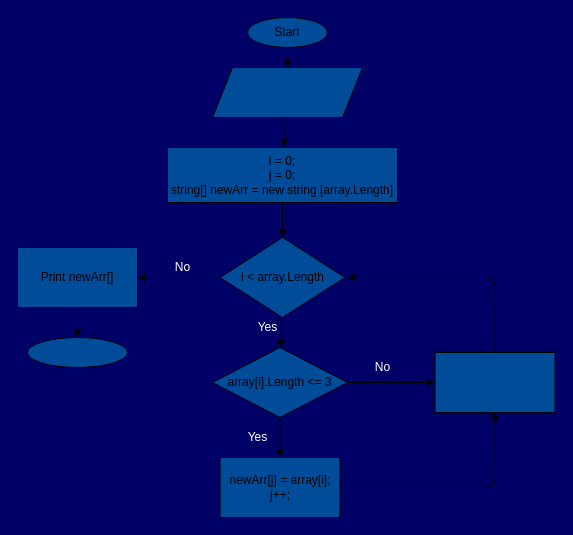
Image size: 573x535. Some labels were removed from this diagram. The centre of each missing label's shape, as x and y in pixels:
"Enter the array[ ]" belongs at (287,92).
"Finish" belongs at (77,352).
"i++;" belongs at (494,382).
